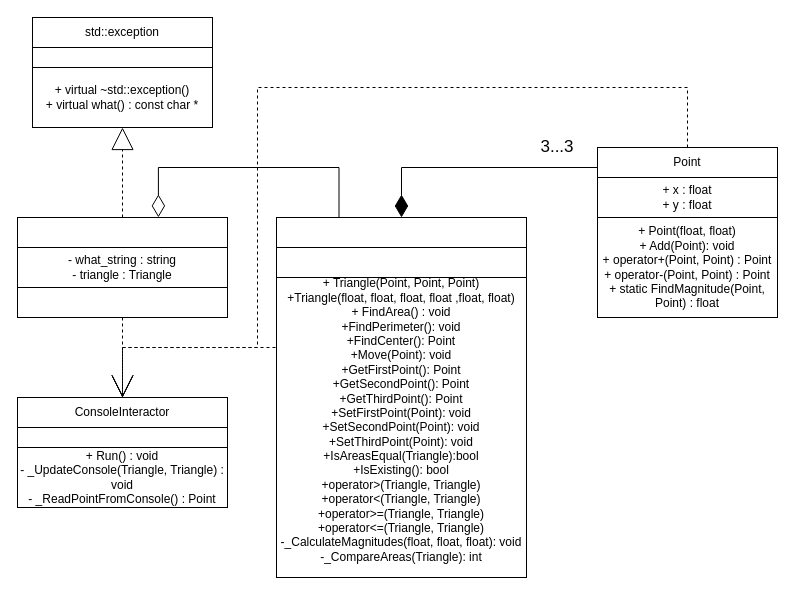
Image size: 795x596. Some labels were removed from this diagram. The box of each missing label's shape, as (x1, y1, x2, y2) in pixels:
+ TriangleExistingEsception(Triangle): (16, 286, 228, 318)
- points[3] : Point: (276, 246, 526, 278)
Triangle: (276, 216, 526, 248)
TriangleExistingEsception: (16, 216, 228, 248)
